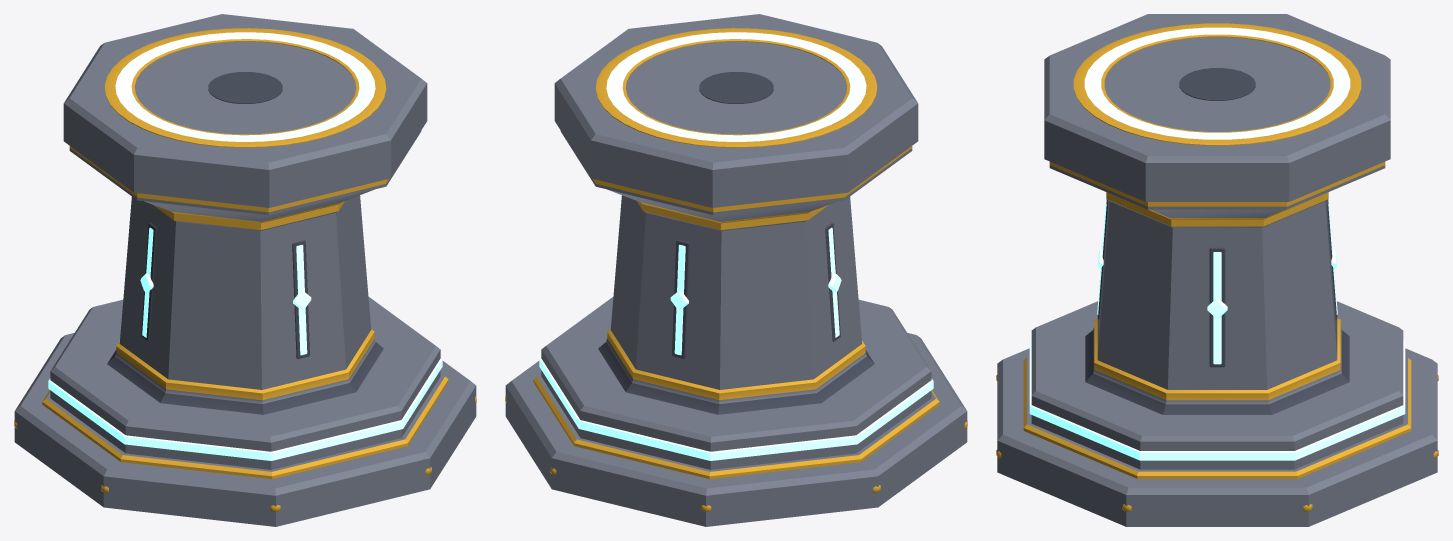
Rendered from gear.glb.
3 renders of one model, left to right at view 1: azimuth 30°, elevation 25°; view 2: azimuth 150°, elevation 25°; view 3: azimuth 270°, elevation 25°, orthographic. The views are drawn at different scales.
Visible parts, largest first — view 1: Pedestal; view 2: Pedestal; view 3: Pedestal.
Boxes of the visible parts, box(x1,y1,x2,y2) form: Pedestal: box(14, 14, 476, 526); Pedestal: box(505, 14, 967, 526); Pedestal: box(996, 14, 1438, 526).
Bounding box in the file's own units: 0.8045 × 0.8275 × 0.8045.
